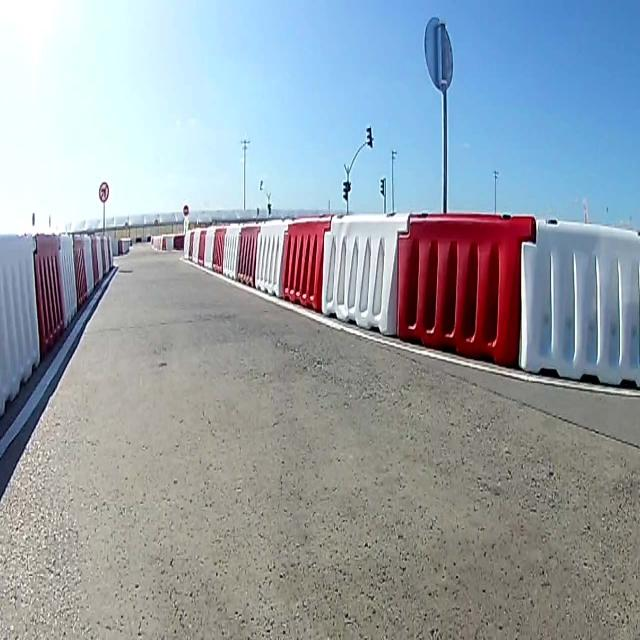soladonulmez: (99, 180, 109, 203)
